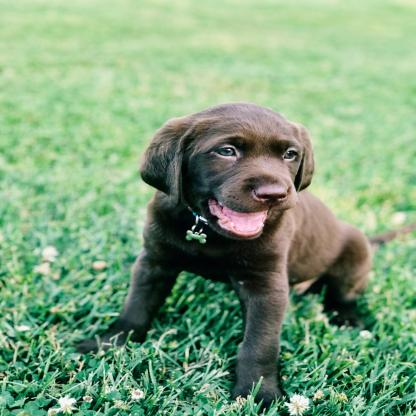Labarador Retriever: (108, 104, 371, 404)
